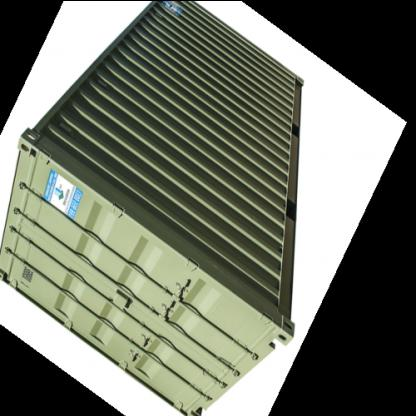Damage: (273, 203, 284, 291)
